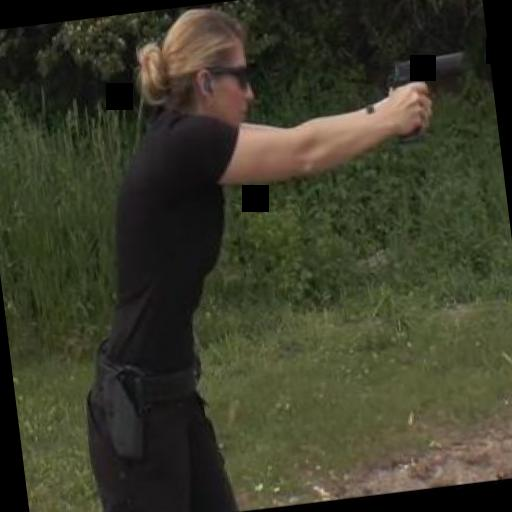Handgun: (383, 48, 474, 136)
